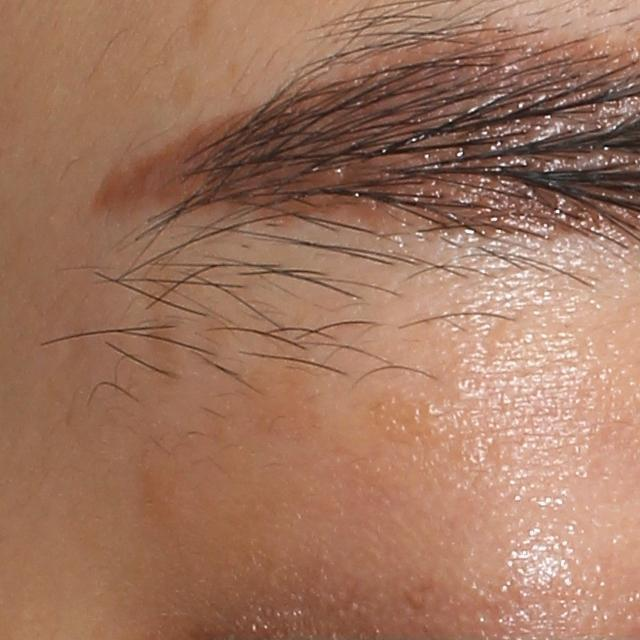melasma: (246, 343, 338, 442), (137, 446, 209, 532), (369, 393, 458, 446)
